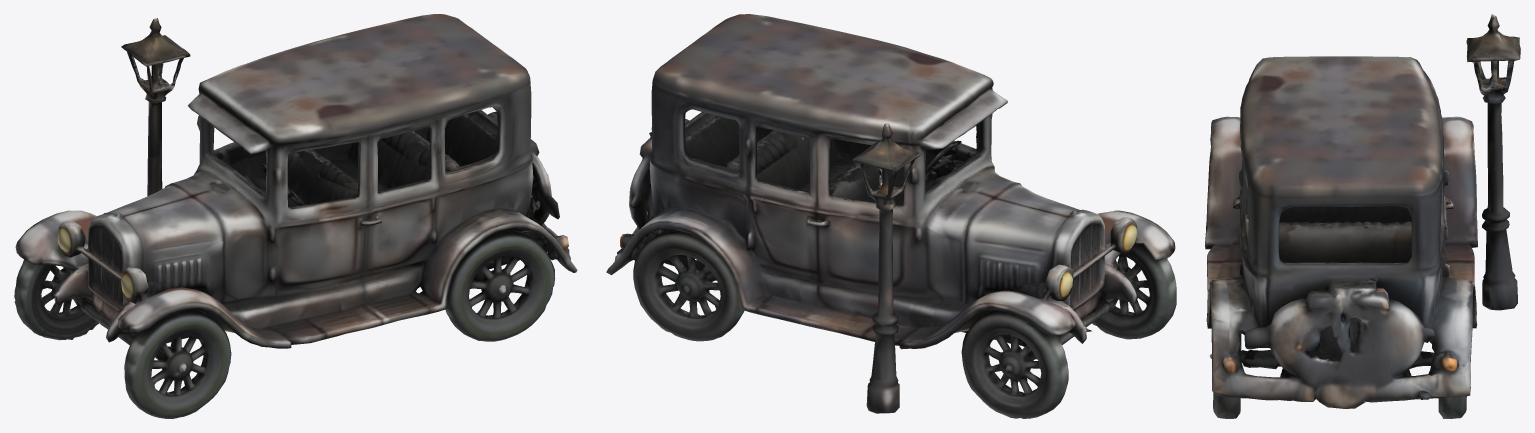
3 renders of one model, left to right at view 1: azimuth 30°, elevation 25°; view 2: azimuth 150°, elevation 25°; view 3: azimuth 270°, elevation 25°, orthographic. The views are drawn at different scales.
Bounding box in the file's own units: 1.91 × 1.11 × 1.1.
Materials: 1 (1 with a texture image).
